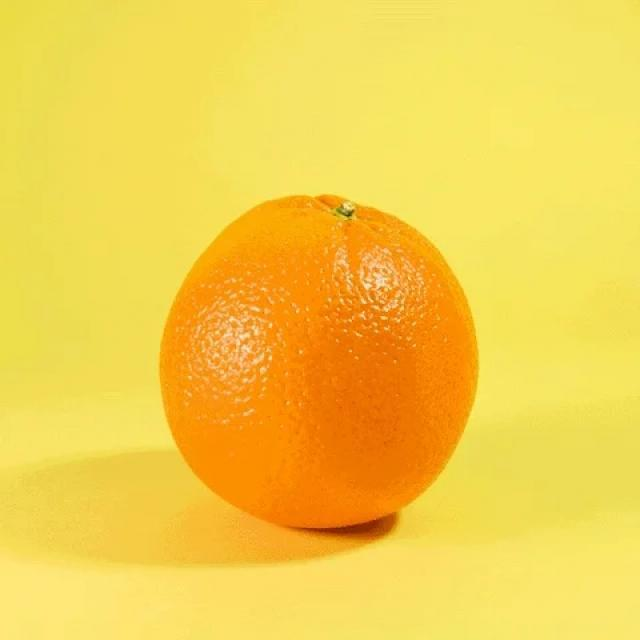Orange: (159, 195, 478, 532)
